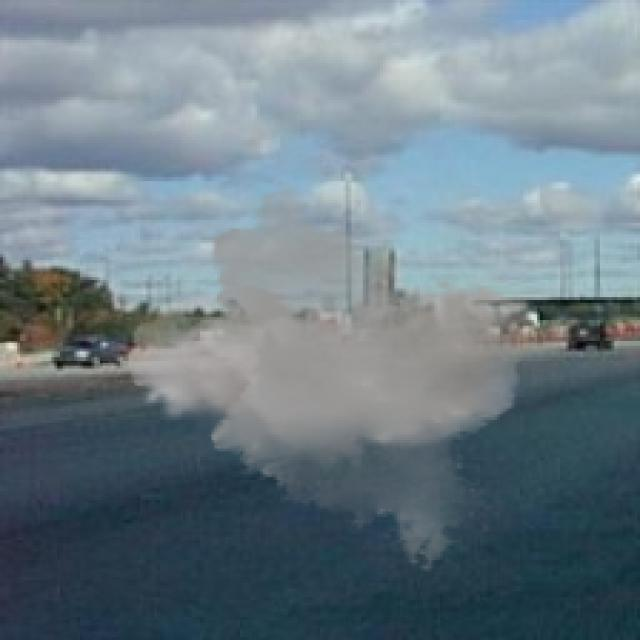Smoke: (125, 177, 538, 574)
